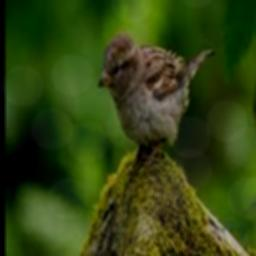Sparrow: (97, 29, 214, 164)
